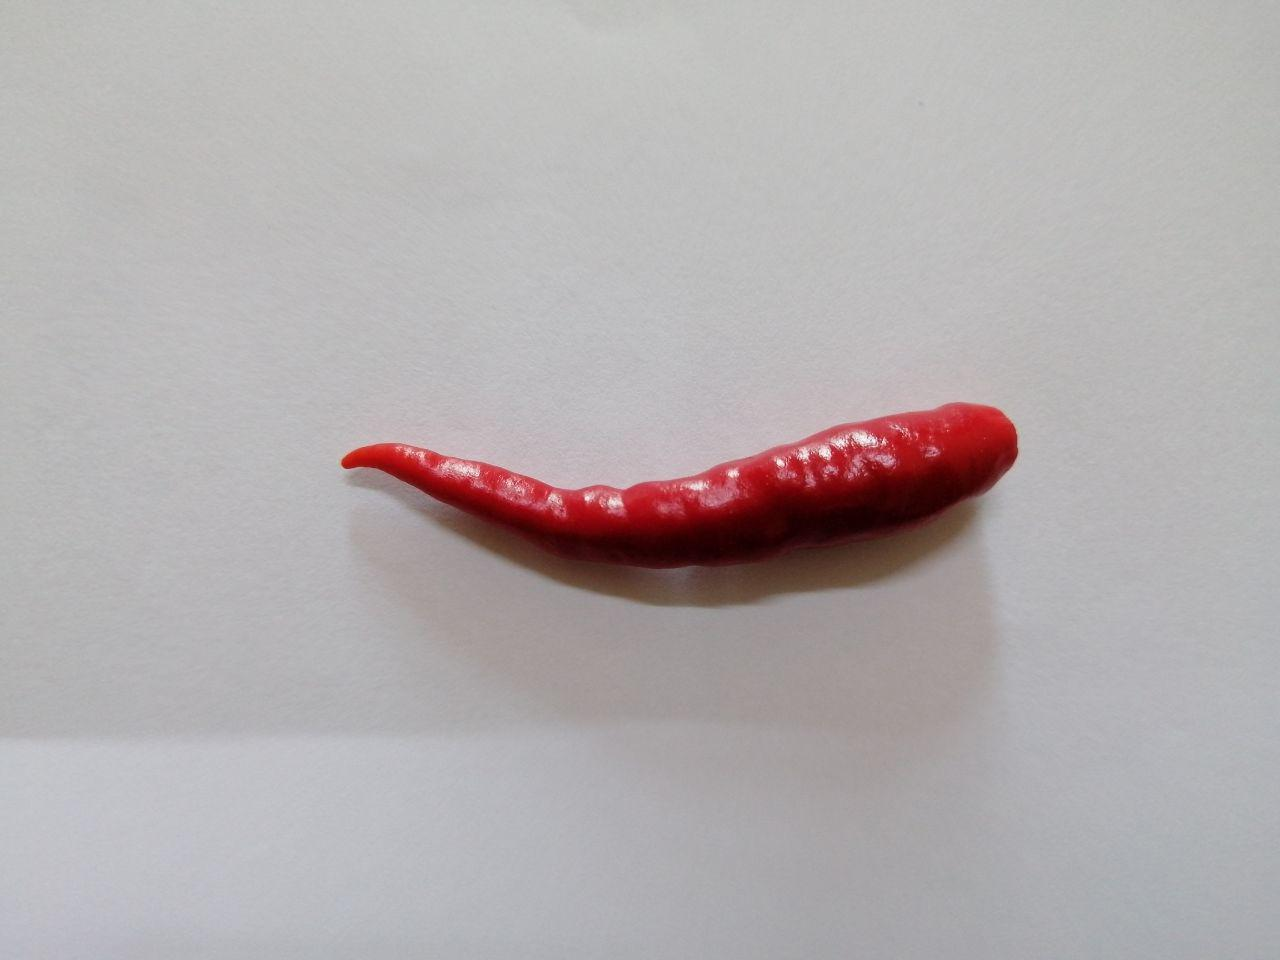lada merah: (330, 387, 1031, 587)
